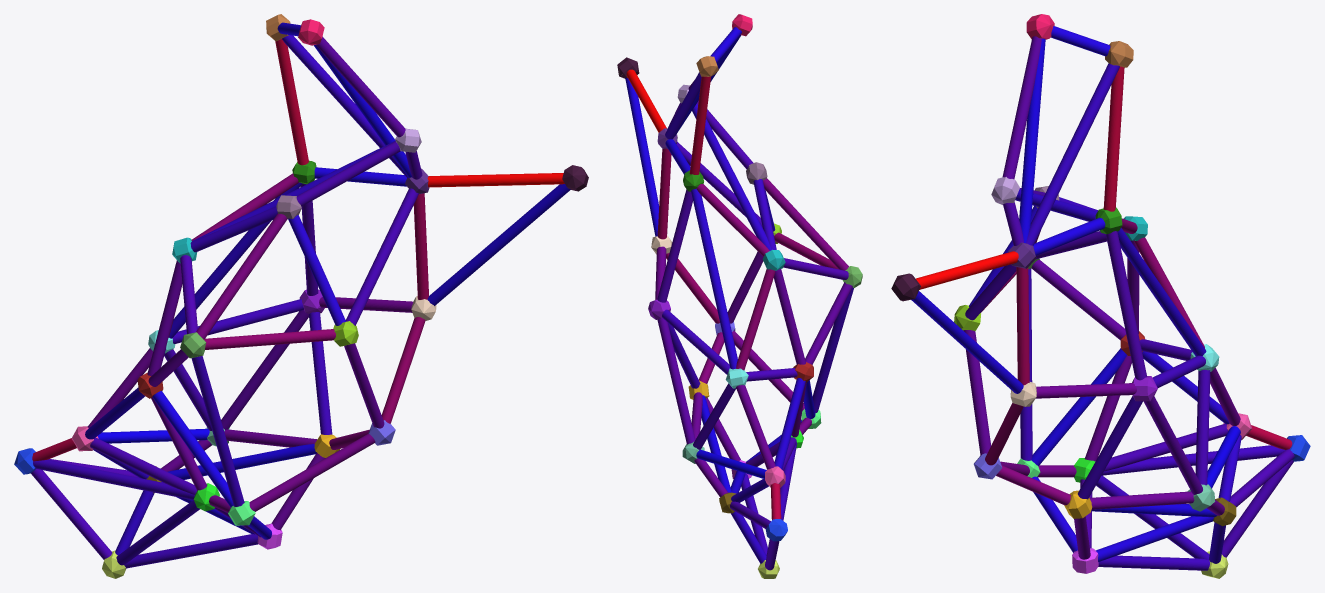
Rendered from fg-00010-skel.obj.
The picture shows the model from 3 angles, left to right: view 1: azimuth 30°, elevation 25°; view 2: azimuth 150°, elevation 25°; view 3: azimuth 270°, elevation 25°; orthographic projection. The views are drawn at different scales.
Size of the model in its own units: 0.1568 by 0.2281 by 0.1394.
Materials: 1 (1 with a texture image).
